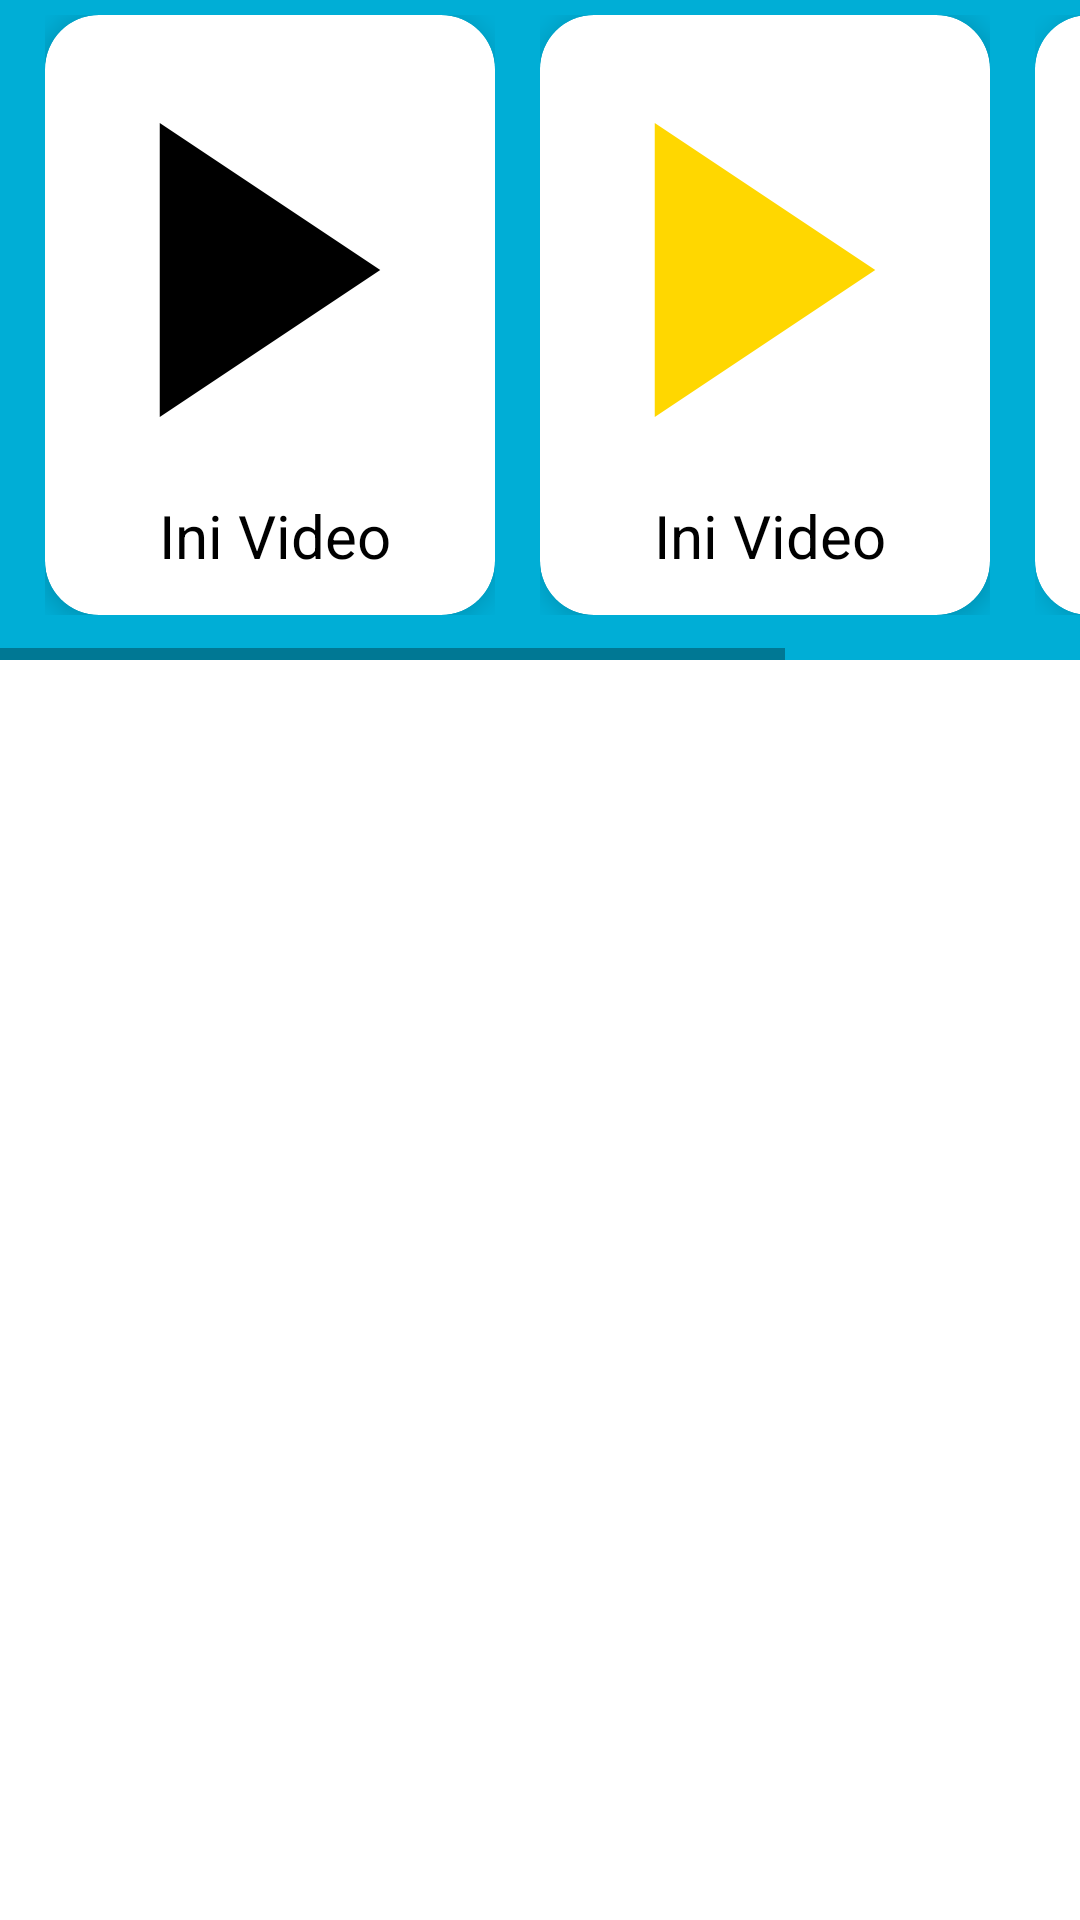

Locate icon controls on the screen. Image size 1080 x 1920, boxes as [left=x1, top=y1, right=x2, bottom=y2].
play: [left=159, top=123, right=380, bottom=417], [left=654, top=123, right=875, bottom=417]
